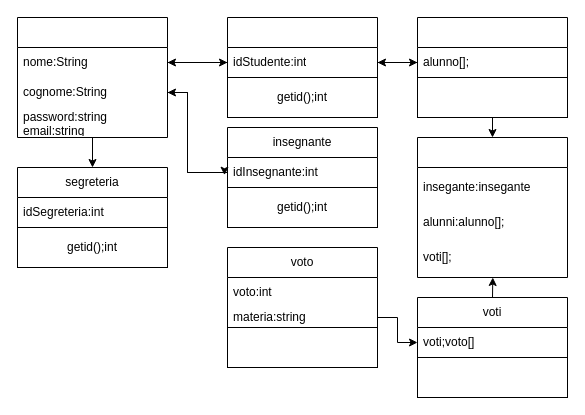
This 585x415 diagram has some shape labels left out. The box of each missing label's shape, as (x1, y1, x2, y2) in pixels:
alunni: (416, 16, 568, 78)
alunno: (226, 16, 378, 78)
classe: (416, 136, 568, 278)
utente: (16, 16, 168, 138)
